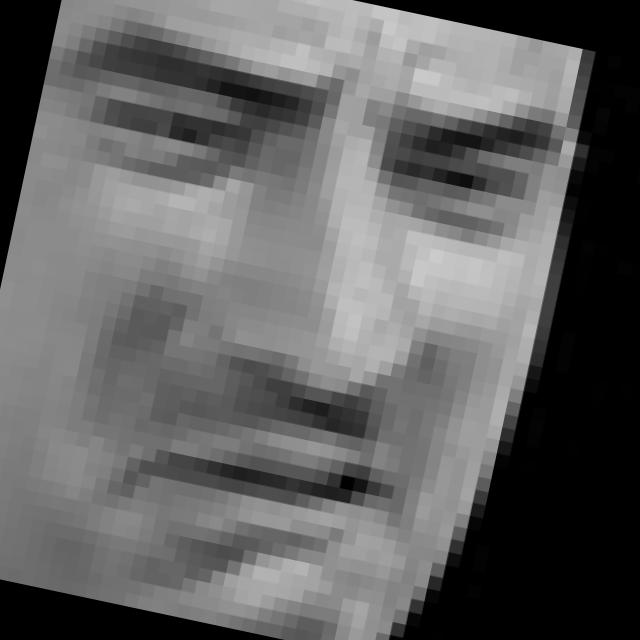disgust: (0, 13, 565, 640)
